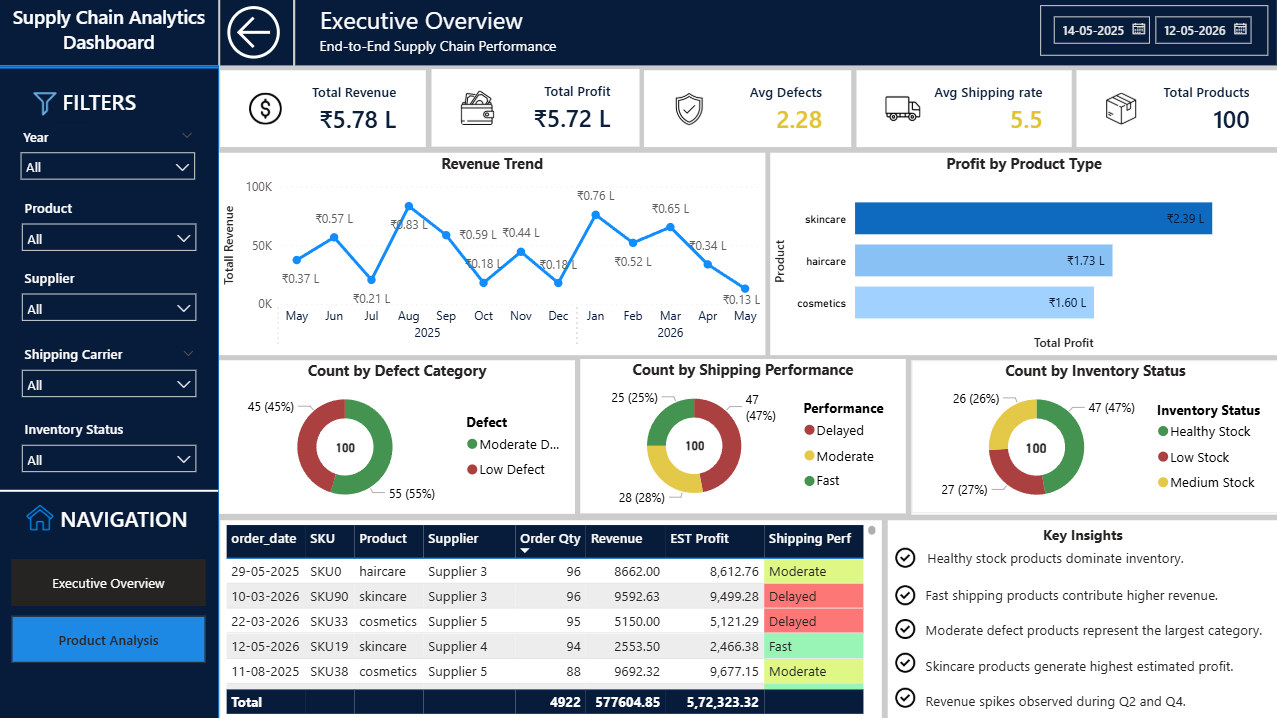

The page's visual inventory and layout, read from the dashboard file:
{"tool":"powerbi","page":{"name":"Executive Overview","canvas":[1280,720],"ordinal":0},"visuals":[{"type":"shape","box":[0,68.8,220,651.2],"z":0},{"type":"textbox","box":[0,0,219.6,66],"z":1000},{"type":"cardVisual","fields":{"Data":["final_dashboard.Total revenue"]},"box":[220.9,71.4,205.8,77],"z":2000},{"type":"cardVisual","fields":{"Data":["final_dashboard.Total Profit"]},"box":[432.1,70,208,77.5],"z":3000},{"type":"textbox","box":[46.7,82.3,108.4,39.8],"z":3000,"group":"g1"},{"type":"cardVisual","fields":{"Data":["final_dashboard.Avg Defect Products"]},"box":[645.4,71.2,207,77],"z":4000},{"type":"cardVisual","fields":{"Data":["final_dashboard.Total Products"]},"box":[1078,71.4,202,77],"z":5000},{"type":"lineChart","title":"Revenue Trend","fields":{"Y":["final_dashboard.Totall Revenue"],"Category":["final_dashboard.order_date.Variation.Date Hierarchy.Year","final_dashboard.Month_Year"]},"box":[220,153.8,546.2,202.5],"z":6000},{"type":"clusteredBarChart","title":"Profit by Product Type","fields":{"Category":["final_dashboard.product_type"],"Y":["final_dashboard.Totall Profit"]},"box":[771.2,153.8,507.5,202.5],"z":7000},{"type":"donutChart","fields":{"Category":["final_dashboard.defect_category"],"Y":["CountNonNull(final_dashboard.SKU)"]},"box":[220,361.2,356.2,153.8],"z":8000},{"type":"donutChart","fields":{"Category":["final_dashboard.shipping_performance"],"Y":["CountNonNull(final_dashboard.SKU)"]},"box":[581.8,360.3,325.2,154],"z":9000},{"type":"donutChart","fields":{"Category":["final_dashboard.inventory_status"],"Y":["Count(final_dashboard.SKU)"]},"box":[912.5,361.2,367.5,154],"z":10000},{"type":"slicer","fields":{"Values":["final_dashboard.fiscal_year"]},"box":[11.7,123.3,194.9,70],"z":11000},{"type":"slicer","fields":{"Values":["final_dashboard.product_type"]},"box":[12.3,194.5,194.9,70],"z":12000},{"type":"slicer","fields":{"Values":["final_dashboard.supplier_name"]},"box":[12.3,265.6,194.9,74.1],"z":13000},{"type":"textbox","box":[296.7,0,981.7,66.7],"z":14000},{"type":"textbox","box":[888.8,521.2,390,198.8],"z":14000,"group":"g3"},{"type":"slicer","fields":{"Values":["final_dashboard.order_date"]},"box":[1041.5,6.9,227.8,50.8],"z":15000},{"type":"tableEx","fields":{"Values":["final_dashboard.order_date.Variation.Date Hierarchy.Year","final_dashboard.SKU","final_dashboard.product_type","final_dashboard.supplier_name","Sum(final_dashboard.order_qty)","Sum(final_dashboard.revenue)","Sum(final_dashboard.estimated_profit)","final_dashboard.shipping_performance"]},"box":[221.2,521.2,661.2,198.8],"z":16000},{"type":"image","box":[896.5,549.3,20.1,20.6],"z":16000,"group":"g4"},{"type":"slicer","fields":{"Values":["final_dashboard.shipping_carrier"]},"box":[12.3,340.9,194.9,74.1],"z":17000},{"type":"image","box":[896.5,586.3,20.1,20.6],"z":17000,"group":"g4"},{"type":"slicer","fields":{"Values":["final_dashboard.inventory_status"]},"box":[12.3,416.2,194.9,74.1],"z":18000},{"type":"image","box":[896.5,620.6,20.1,20.6],"z":18000,"group":"g4"},{"type":"actionButton","box":[221.7,0,73,66.7],"z":19000},{"type":"image","box":[896.5,654.8,20.1,20.6],"z":19000,"group":"g4"},{"type":"shape","box":[0,478.9,219.6,26.1],"z":20000},{"type":"image","box":[896.5,689.1,20.1,20.6],"z":20000,"group":"g4"},{"type":"pageNavigator","box":[12.3,559.9,194.9,104.3],"z":21000},{"type":"group","id":"g1","title":"Group 1","box":[30.2,82.3,124.9,39.8],"z":22000},{"type":"group","id":"g2","title":"Group 2","box":[24.7,499.8,188,50.8],"z":23000},{"type":"cardVisual","fields":{"Data":["final_dashboard.Avg Shipping rate"]},"box":[857.7,71.2,215,77],"z":24000},{"type":"group","id":"g3","title":"Group 4","box":[888.8,521.2,390,198.8],"z":25000},{"type":"cardVisual","fields":{"Data":["Count(final_dashboard.SKU)"]},"box":[1004.4,425.6,64.4,46.7],"z":26000},{"type":"cardVisual","fields":{"Data":["CountNonNull(final_dashboard.shipping_performance)"]},"box":[663.3,420,64.4,51.1],"z":27000},{"type":"cardVisual","fields":{"Data":["CountNonNull(final_dashboard.defect_category)"]},"box":[313.3,420,65,55],"z":28000},{"type":"textbox","box":[56.3,499.8,156.4,50.8],"z":28000,"group":"g2"},{"type":"shape","box":[0,42.5,220,50],"z":29000},{"type":"group","id":"g4","title":"Group 3","box":[896.5,549.3,20.1,160.4],"z":30001,"group":"g3"},{"type":"image","box":[24.7,505.3,31.6,27.4],"z":31000,"group":"g2"},{"type":"image","box":[30.2,90.5,31.6,27.4],"z":32000,"group":"g1"}]}

Visuals, with their boxes in screenshot pixels (x1, y1, x2, y2), scaled from the page's 1280x720 canvas onto the 1277x718 screenshot:
shape: [x1=0, y1=69, x2=219, y2=717]
textbox: [x1=0, y1=0, x2=219, y2=66]
cardVisual - final_dashboard.Total revenue: [x1=220, y1=71, x2=426, y2=148]
cardVisual - final_dashboard.Total Profit: [x1=431, y1=70, x2=639, y2=147]
textbox: [x1=47, y1=82, x2=155, y2=122]
cardVisual - final_dashboard.Avg Defect Products: [x1=644, y1=71, x2=850, y2=148]
cardVisual - final_dashboard.Total Products: [x1=1075, y1=71, x2=1276, y2=148]
"Revenue Trend" lineChart: [x1=219, y1=153, x2=764, y2=355]
"Profit by Product Type" clusteredBarChart: [x1=769, y1=153, x2=1276, y2=355]
donutChart - final_dashboard.defect_category x CountNonNull(final_dashboard.SKU): [x1=219, y1=360, x2=575, y2=514]
donutChart - final_dashboard.shipping_performance x CountNonNull(final_dashboard.SKU): [x1=580, y1=359, x2=905, y2=513]
donutChart - final_dashboard.inventory_status x Count(final_dashboard.SKU): [x1=910, y1=360, x2=1276, y2=514]
slicer - final_dashboard.fiscal_year: [x1=12, y1=123, x2=206, y2=193]
slicer - final_dashboard.product_type: [x1=12, y1=194, x2=207, y2=264]
slicer - final_dashboard.supplier_name: [x1=12, y1=265, x2=207, y2=339]
textbox: [x1=296, y1=0, x2=1275, y2=67]
textbox: [x1=887, y1=520, x2=1276, y2=717]
slicer - final_dashboard.order_date: [x1=1039, y1=7, x2=1266, y2=58]
tableEx - final_dashboard.order_date.Variation.Date Hierarchy.Year x final_dashboard.SKU: [x1=221, y1=520, x2=880, y2=717]
image: [x1=894, y1=548, x2=914, y2=568]
slicer - final_dashboard.shipping_carrier: [x1=12, y1=340, x2=207, y2=414]
image: [x1=894, y1=585, x2=914, y2=605]
slicer - final_dashboard.inventory_status: [x1=12, y1=415, x2=207, y2=489]
image: [x1=894, y1=619, x2=914, y2=639]
actionButton: [x1=221, y1=0, x2=294, y2=67]
image: [x1=894, y1=653, x2=914, y2=674]
shape: [x1=0, y1=478, x2=219, y2=504]
image: [x1=894, y1=687, x2=914, y2=708]
pageNavigator: [x1=12, y1=558, x2=207, y2=662]
"Group 1" group: [x1=30, y1=82, x2=155, y2=122]
"Group 2" group: [x1=25, y1=498, x2=212, y2=549]
cardVisual - final_dashboard.Avg Shipping rate: [x1=856, y1=71, x2=1070, y2=148]
"Group 4" group: [x1=887, y1=520, x2=1276, y2=717]
cardVisual - Count(final_dashboard.SKU): [x1=1002, y1=424, x2=1066, y2=471]
cardVisual - CountNonNull(final_dashboard.shipping_performance): [x1=662, y1=419, x2=726, y2=470]
cardVisual - CountNonNull(final_dashboard.defect_category): [x1=313, y1=419, x2=377, y2=474]
textbox: [x1=56, y1=498, x2=212, y2=549]
shape: [x1=0, y1=42, x2=219, y2=92]
"Group 3" group: [x1=894, y1=548, x2=914, y2=708]
image: [x1=25, y1=504, x2=56, y2=531]
image: [x1=30, y1=90, x2=62, y2=118]
